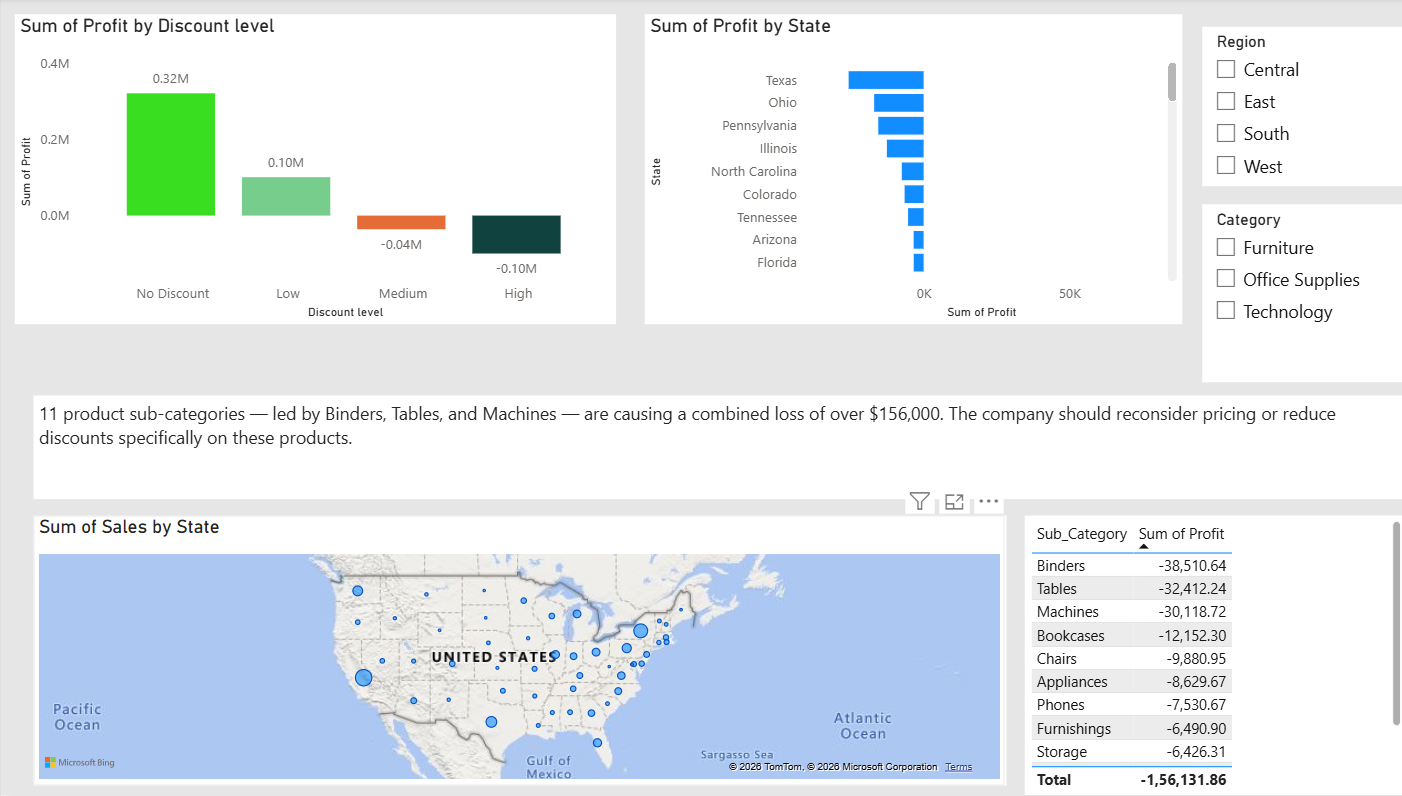

This screenshot's page, from the dashboard's own definition file:
{"tool":"powerbi","page":{"name":"Detailed Analysis","canvas":[1280,720],"ordinal":2},"visuals":[{"type":"clusteredColumnChart","fields":{"Category":["SampleSuperstore.Discount level"],"Y":["Sum(SampleSuperstore.Profit)"]},"box":[12.3,15.1,543.4,279.9],"z":0},{"type":"clusteredBarChart","fields":{"Category":["SampleSuperstore.State"],"Y":["Sum(SampleSuperstore.Profit)"]},"box":[581.8,15.1,485.8,279.9],"z":1000},{"type":"textbox","box":[28.8,359.5,1241.9,93.3],"z":2000},{"type":"map","fields":{"Category":["SampleSuperstore.State"],"Size":["Sum(SampleSuperstore.Sales)"]},"box":[28.8,467.9,878.2,242.9],"z":3000},{"type":"tableEx","fields":{"Values":["SampleSuperstore.Sub_Category","Sum(SampleSuperstore.Profit)"]},"box":[924.9,467.9,345.8,252.5],"z":4000},{"type":"slicer","fields":{"Values":["SampleSuperstore.Region"]},"box":[1085.4,26.1,185.2,144.1],"z":5000},{"type":"slicer","fields":{"Values":["SampleSuperstore.Category"]},"box":[1085.4,186.6,185.2,160.5],"z":6000}]}

Visuals, with their boxes in screenshot pixels (x1, y1, x2, y2), scaled from the page's 1280x720 canvas onto the 1402x796 screenshot:
clusteredColumnChart - SampleSuperstore.Discount level x Sum(SampleSuperstore.Profit): crop(13, 17, 609, 326)
clusteredBarChart - SampleSuperstore.State x Sum(SampleSuperstore.Profit): crop(637, 17, 1169, 326)
textbox: crop(32, 397, 1392, 501)
map - SampleSuperstore.State x Sum(SampleSuperstore.Sales): crop(32, 517, 993, 786)
tableEx - SampleSuperstore.Sub_Category x Sum(SampleSuperstore.Profit): crop(1013, 517, 1392, 795)
slicer - SampleSuperstore.Region: crop(1189, 29, 1392, 188)
slicer - SampleSuperstore.Category: crop(1189, 206, 1392, 384)
